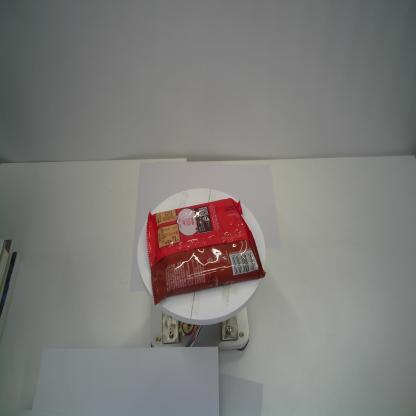Dessert: (146, 197, 266, 306)
